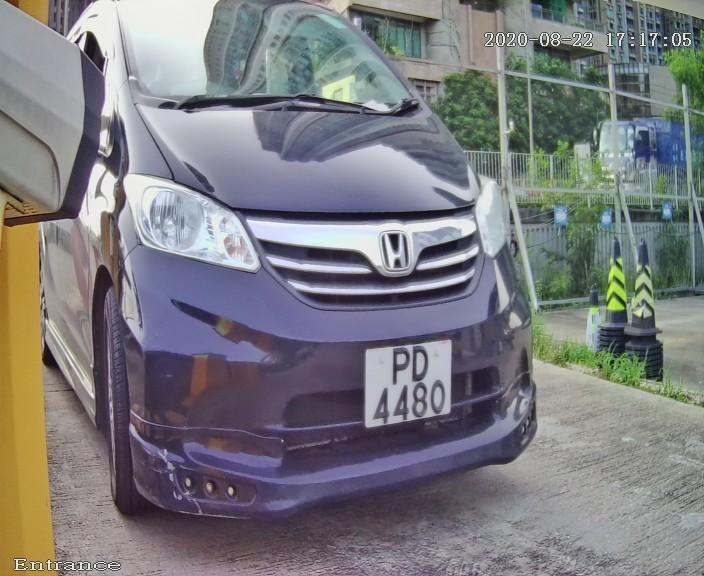Car: (29, 8, 585, 541)
License Plate: (356, 324, 456, 435)
